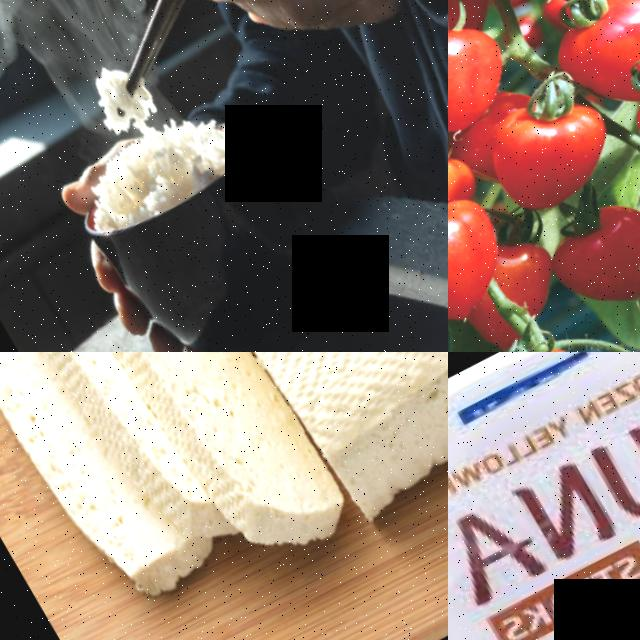tofu: (58, 352, 348, 573), (0, 352, 222, 620), (123, 352, 448, 528)
tomato: (448, 0, 530, 154), (448, 310, 607, 352)
white rice: (57, 81, 261, 246)
